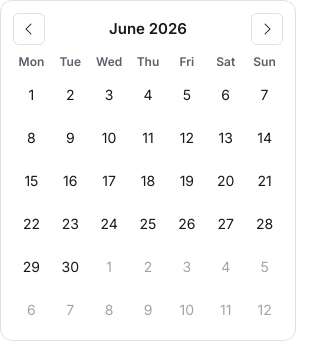
Test case: CalendarGrid drill-up subviews › disables a month entirely outside minDate/maxDate
Step 1. Click the button "June 2026" → click(148, 29), box [109,18,187,40]
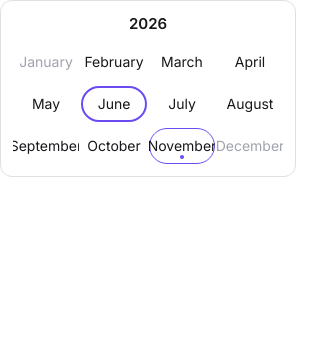
Expected: the button "June" is enabled, [81,86,147,122]
Now the button "January" is disabled, box [13,44,79,80]
Now the button "December" is disabled, box [217,128,283,164]
